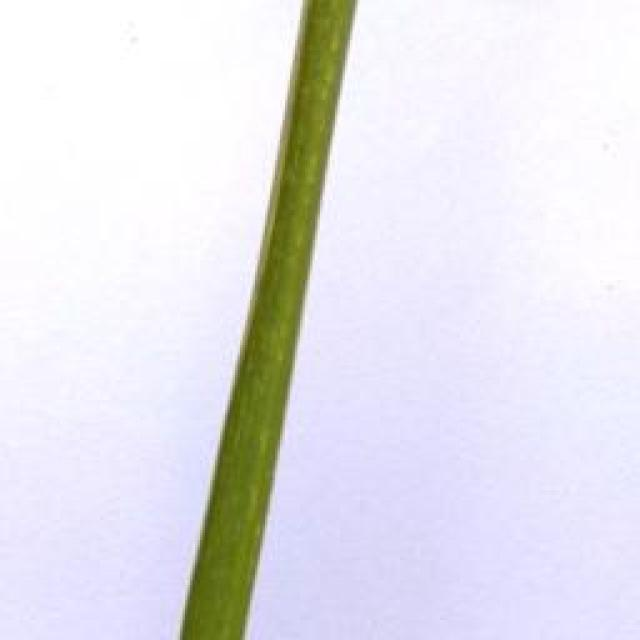Healthy-Plant: (177, 0, 369, 640)
